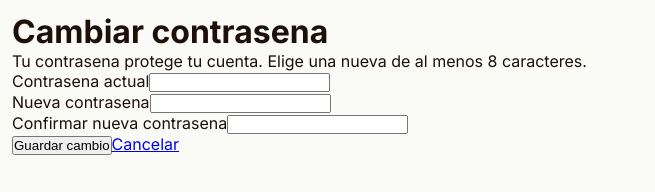
Test case: ChangePasswordPage (UC-AUTH-08) › valida que confirmacion coincida con nueva contrasena
Type "OldPass1!" into the password field labelled "Contrasena actual". click: point(240, 82)
box: x1=149 y1=73 x2=330 y2=92
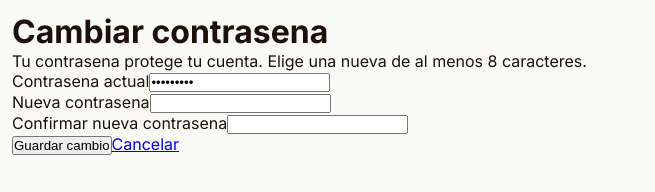
Type "NewPass1!" into the password field labelled "Nueva contrasena". click: point(240, 104)
box: x1=150 y1=94 x2=331 y2=113
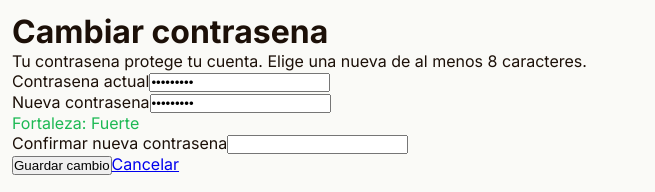
Type "Different1!" into the password field labelled "Confirmar nueva contrasena". click: point(318, 144)
box: x1=227 y1=135 x2=408 y2=154
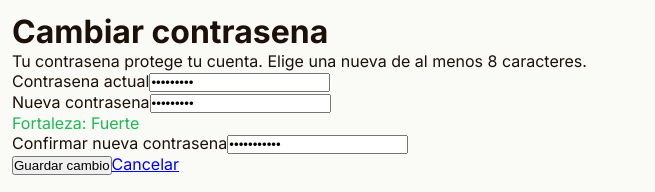
Click the button "Guardar cambio". click: point(62, 166)
box: x1=12 y1=156 x2=112 y2=175
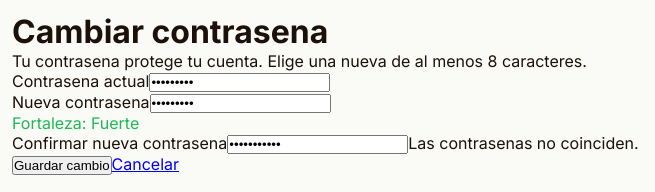
Check: the text "Las contrasenas no coinciden." is shown, box x1=408 y1=133 x2=639 y2=153
